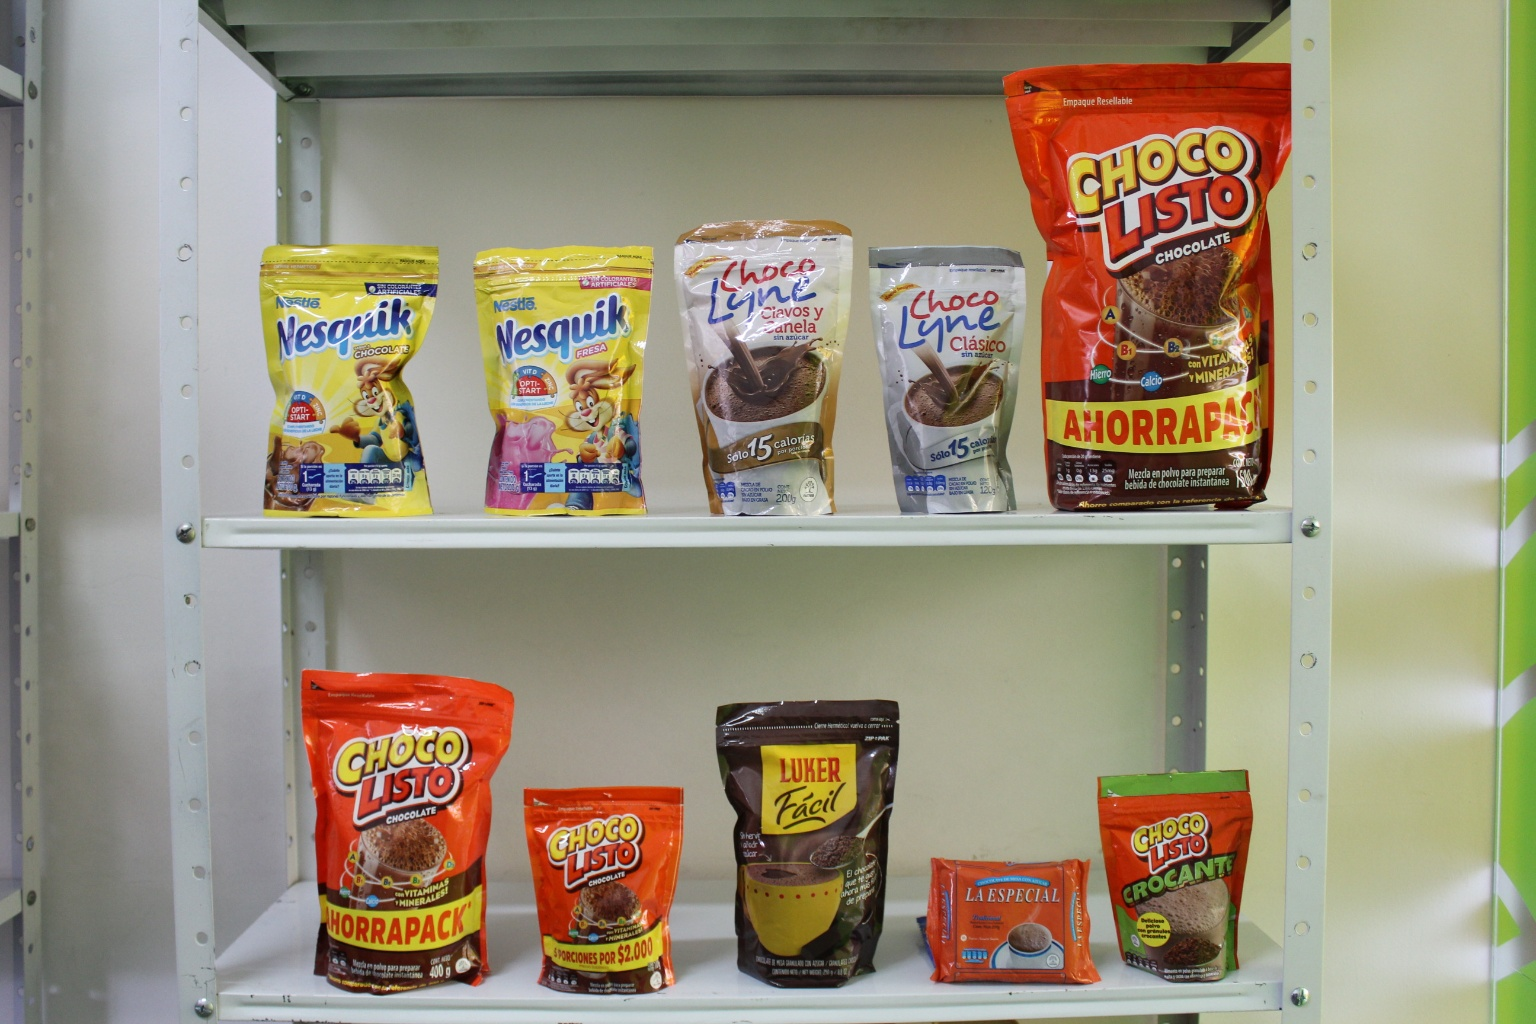COL0170102DYP10000: (1088, 758, 1259, 983)
COL0170103DYP1,500: (994, 38, 1291, 510)
COL0170103DYP10000: (518, 773, 699, 1003)
COL0170103DYP40000: (263, 643, 504, 1001)
COL0170303DYP20000: (249, 237, 451, 518)
COL0170305DYP20000: (465, 241, 666, 519)
